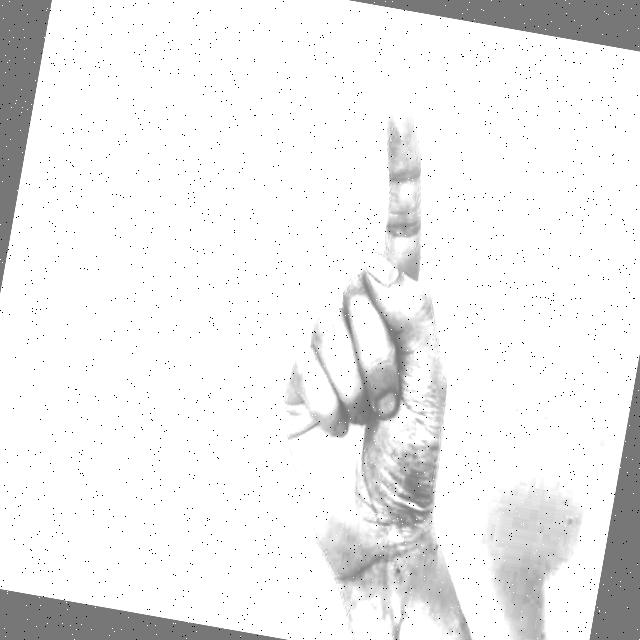U: (228, 58, 546, 598)
